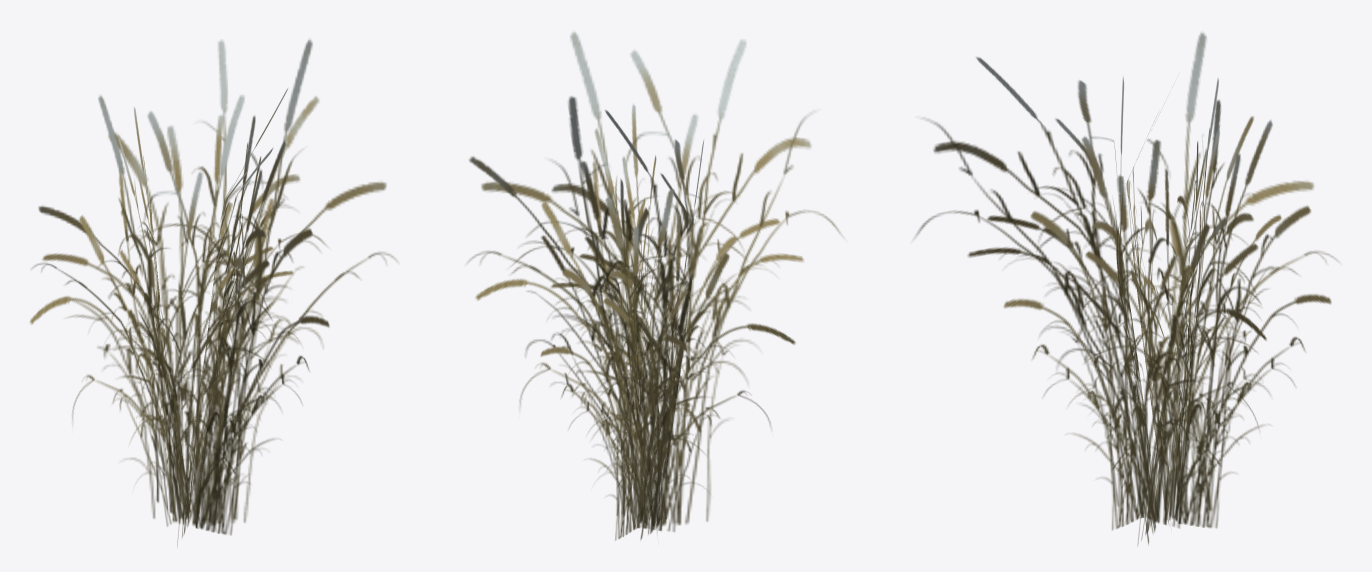
File: ichu_14_nieve.glb
The picture shows the model from 3 angles, left to right: view 1: azimuth 30°, elevation 25°; view 2: azimuth 150°, elevation 25°; view 3: azimuth 270°, elevation 25°; orthographic projection. The views are drawn at different scales.
Parts seen in each view (by area): view 1: Ichu; view 2: Ichu; view 3: Ichu.
Boxes of the visible parts, box(x1,y1,x2,y2) form: Ichu: box(30, 39, 396, 546); Ichu: box(468, 31, 841, 540); Ichu: box(915, 32, 1337, 545).
Bounding box in the file's own units: 0.4463 × 0.56 × 0.4565.
1 material, 1 textured.
